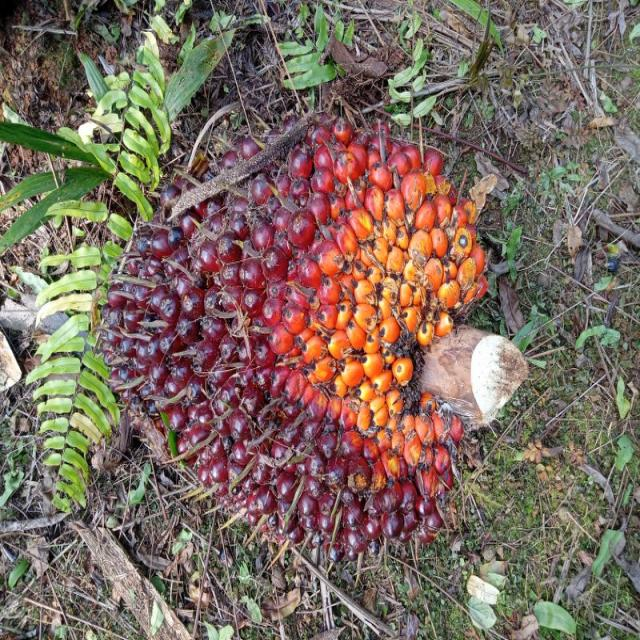fraksi 3: (73, 87, 533, 570)
